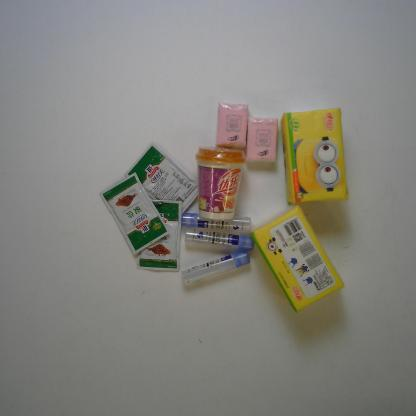Instant Drink: (194, 146, 246, 221)
Seasoner: (99, 172, 170, 256), (123, 143, 199, 214), (136, 199, 182, 272)
Stationery: (181, 249, 250, 286), (184, 228, 254, 251), (181, 212, 252, 232)
Tissue: (250, 203, 345, 313), (280, 106, 349, 205), (245, 117, 278, 165), (216, 102, 249, 148)
